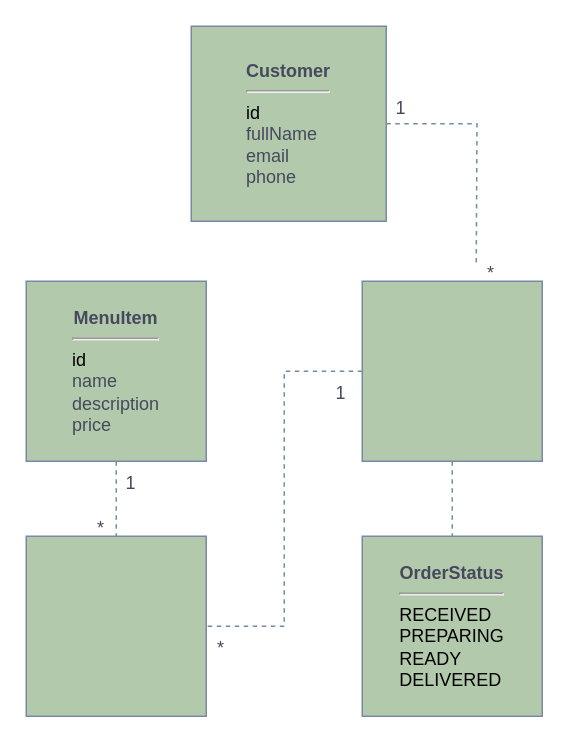
This 569x743 diagram has some shape labels left out. The centre of each missing label's shape, as x and y in pixels:
"Order id status totalAmount" goes at [451,370].
"OrderItem id quantity price" goes at [115,625].
